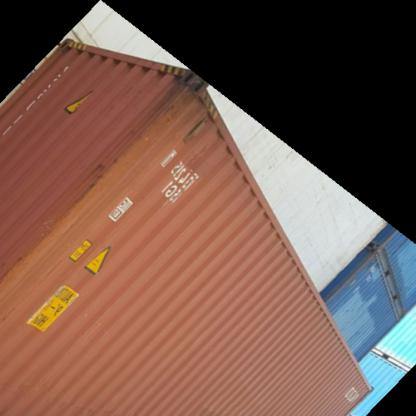Damage: (7, 160, 123, 284), (113, 77, 198, 155)
